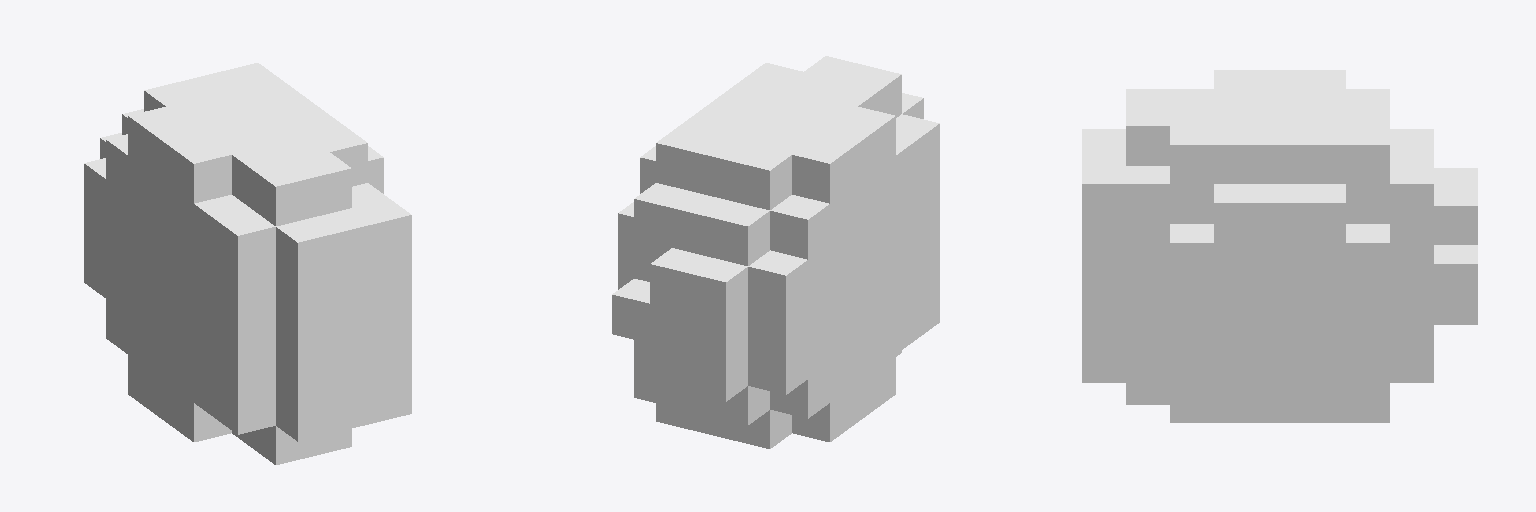
The model's file is cristal-5.obj.
The picture shows the model from 3 angles: view 1: azimuth 30°, elevation 25°; view 2: azimuth 150°, elevation 25°; view 3: azimuth 270°, elevation 25°; orthographic projection.
Visible parts, largest first — view 1: object 1; view 2: object 1; view 3: object 1.
Part boxes in pixels (x1,y1,x2,y2): object 1: (84,63,411,464); object 1: (612,56,939,448); object 1: (1082,70,1477,422).
Bounding box in the file's own units: 0.5 × 0.7 × 0.9.